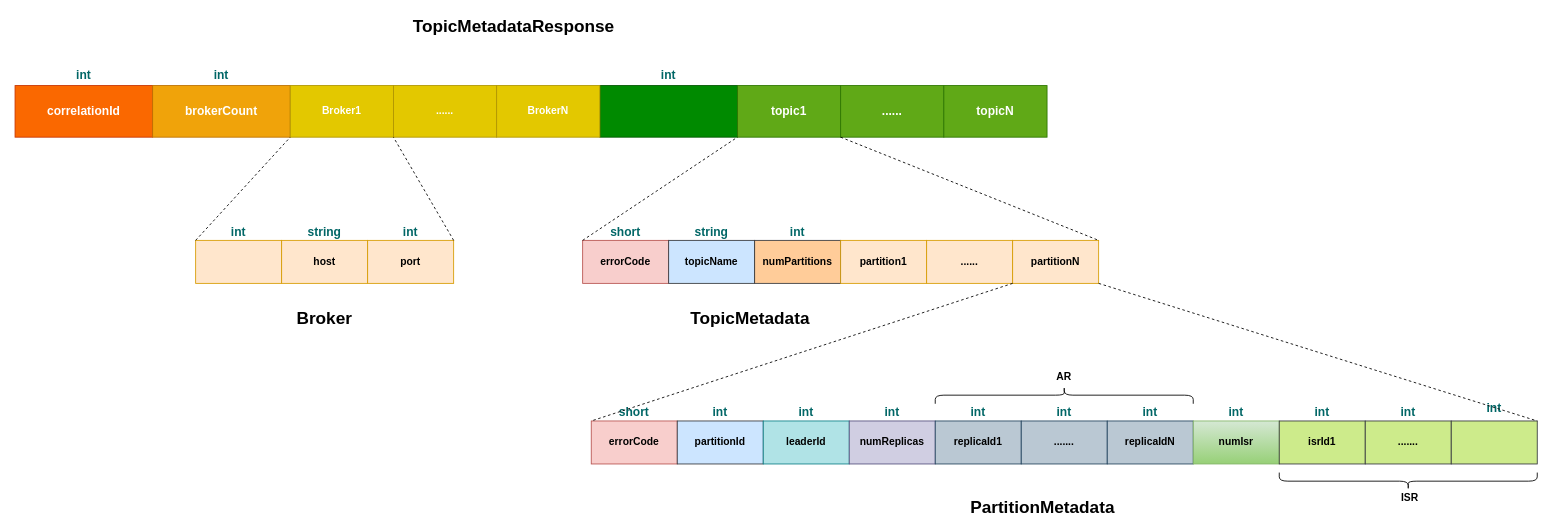
This 1553x531 diagram has some shape labels left out. The box of each missing label's shape, as (x1, y1, x2, y2) in pixels:
id: (195, 240, 282, 283)
isrIdN: (1450, 420, 1537, 464)
topicCount: (599, 85, 737, 137)
